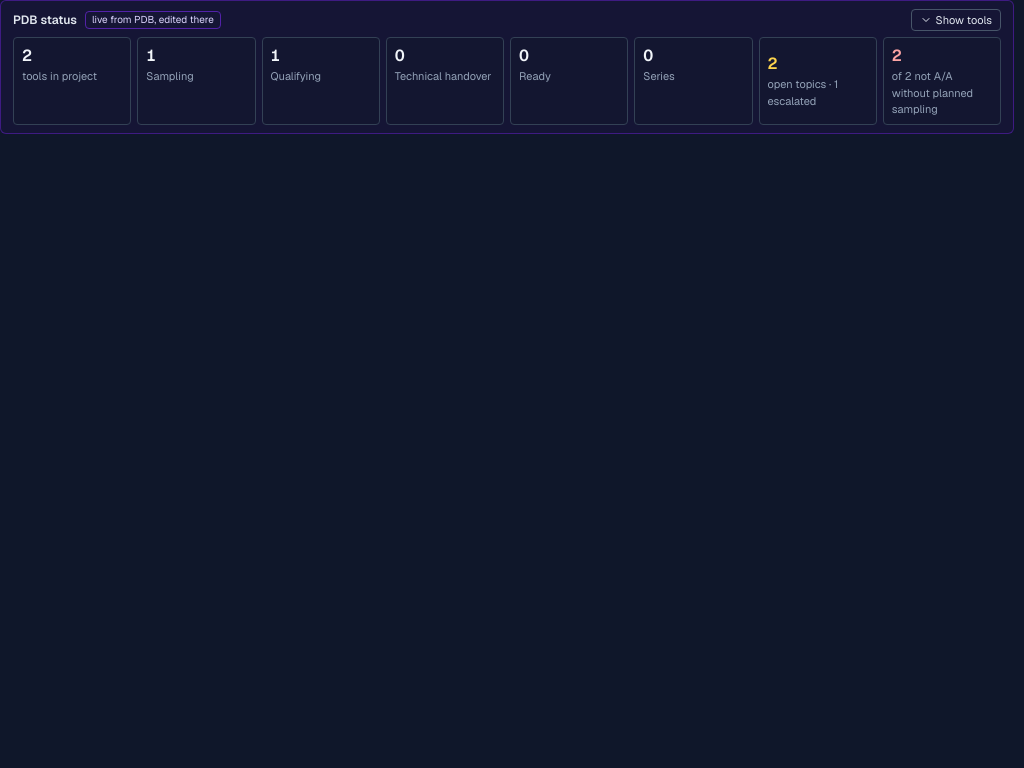
Test: PdbStatusBox › reads every open topic for the list when the box holds only the first ones
Click the button with test id "pdb-step-topics" at (818,81), box [758, 37, 877, 124]
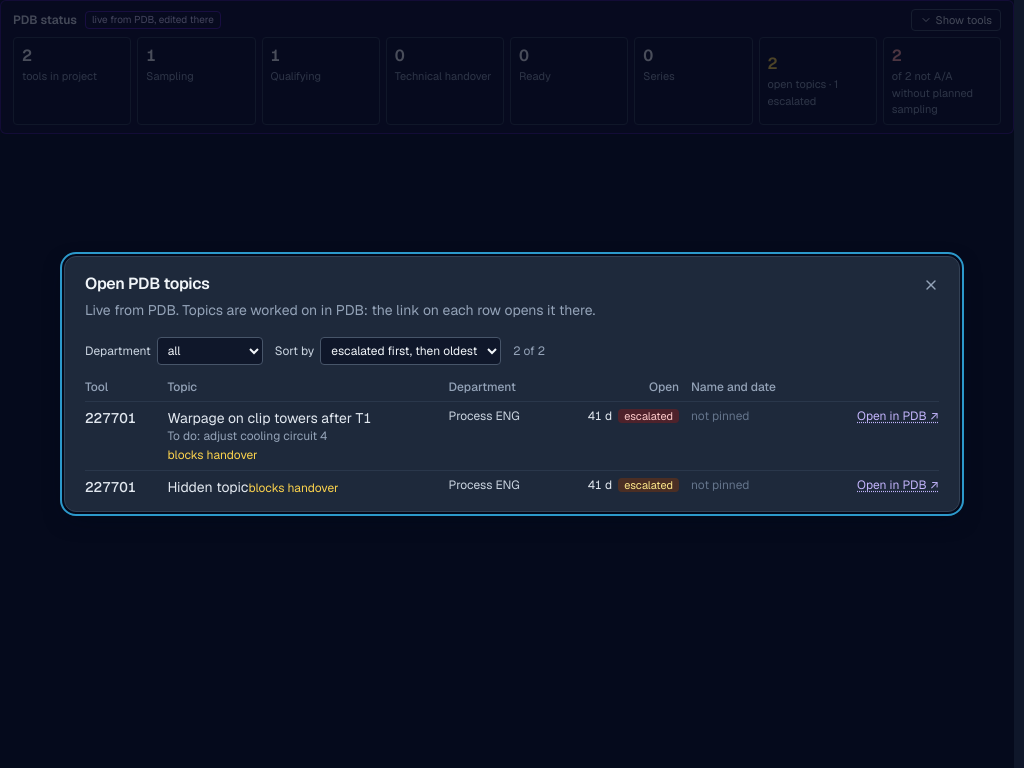
Expected: the text "Hidden topic" is shown, [167, 478, 248, 496]
